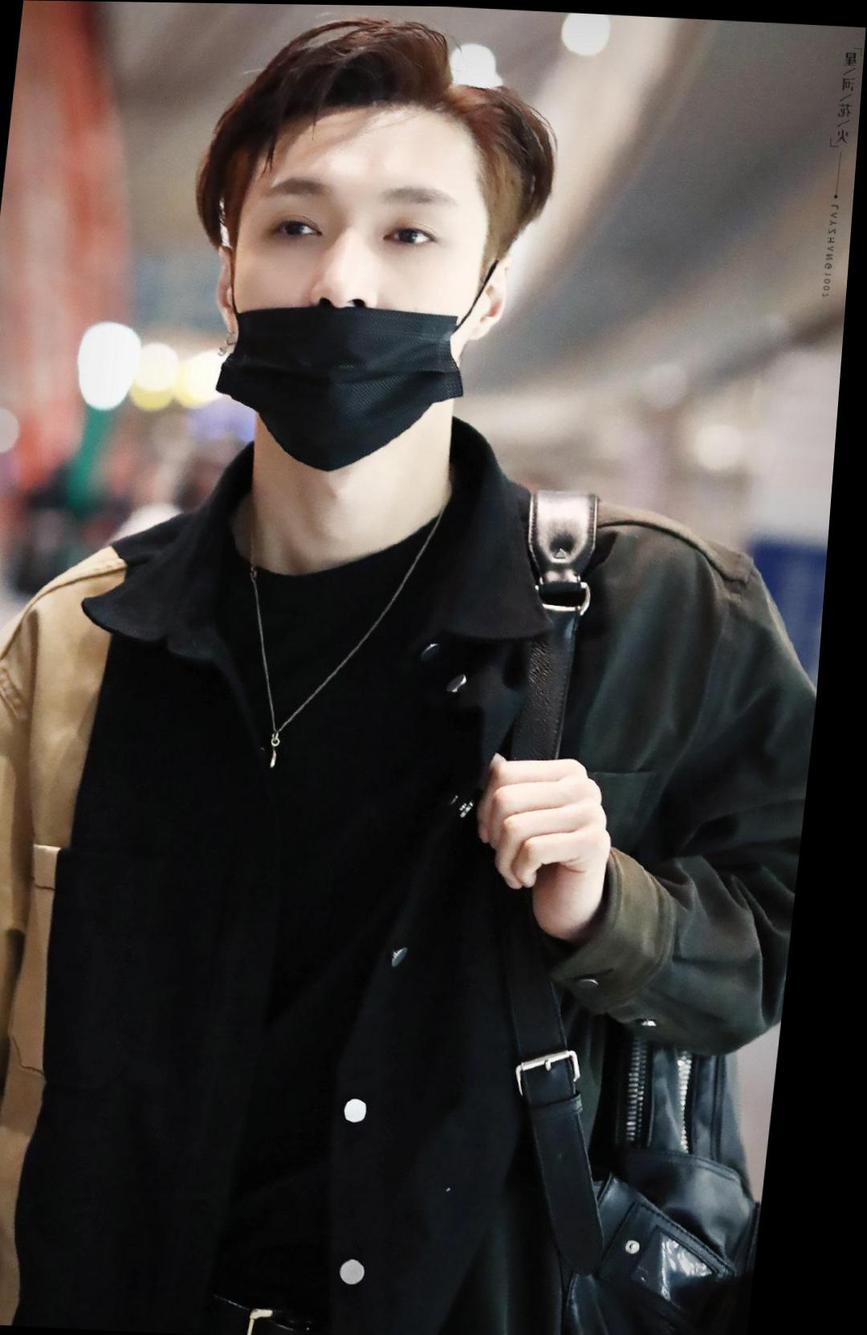WRONG: (220, 143, 500, 461)
